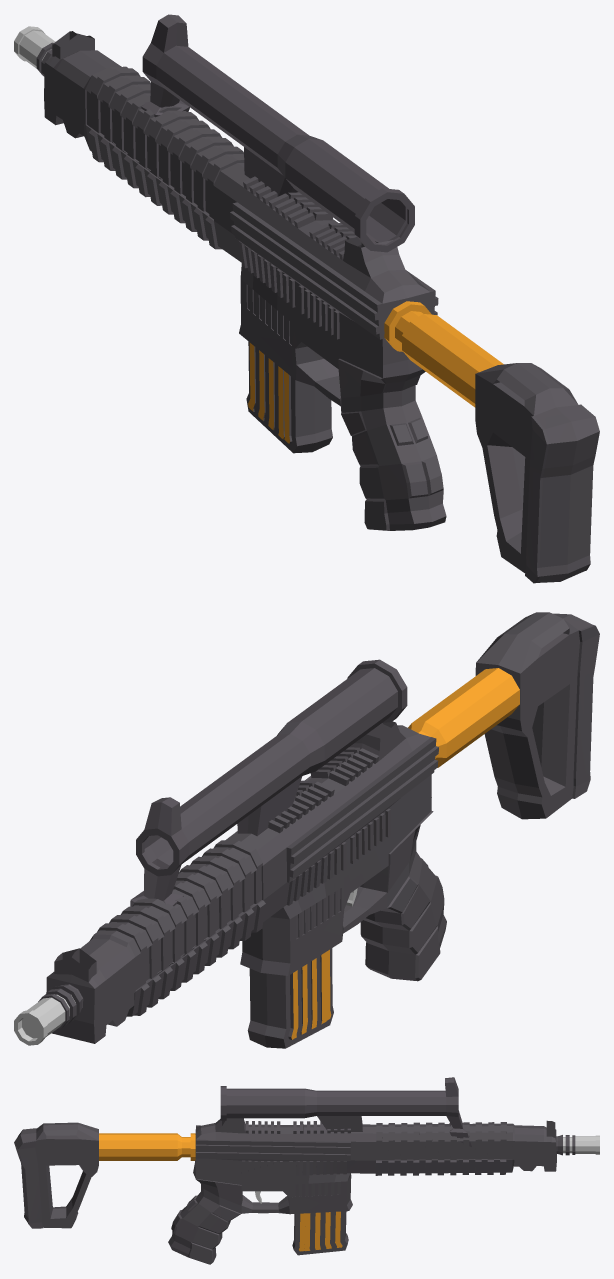
Rendered from Assoult_4.fbx.
3 renders of one model, top to bottom at view 1: azimuth 30°, elevation 25°; view 2: azimuth 150°, elevation 25°; view 3: azimuth 270°, elevation 25°, orthographic. The views are drawn at different scales.
Parts seen in each view (by area): view 1: Assoult_4; view 2: Assoult_4; view 3: Assoult_4.
Part boxes in pixels (bbox=[...]): Assoult_4: bbox=[14, 14, 599, 583]; Assoult_4: bbox=[14, 612, 599, 1048]; Assoult_4: bbox=[14, 1077, 599, 1264].
Size of the model in its own units: 53.07 by 272 by 791.
